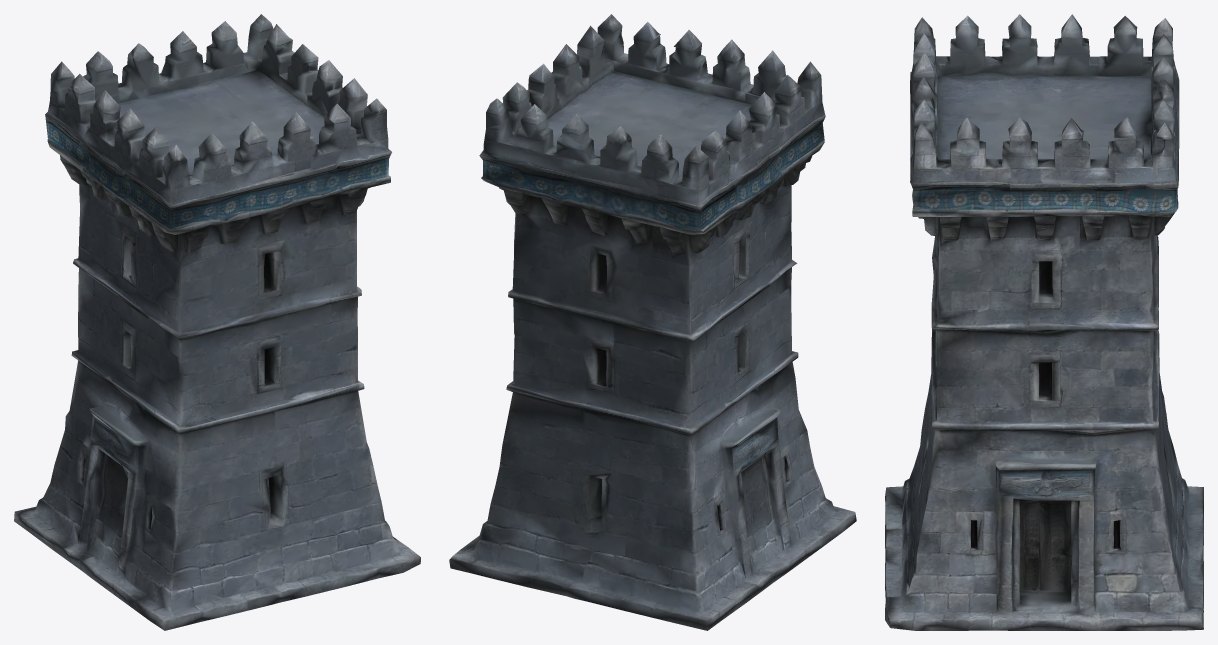
The model's file is castle_tower_medium_stone.glb.
3 renders of one model, left to right at view 1: azimuth 30°, elevation 25°; view 2: azimuth 150°, elevation 25°; view 3: azimuth 270°, elevation 25°, orthographic. The views are drawn at different scales.
Parts seen in each view (by area): view 1: tripo_node_2e26561f-4115-46ed-bfc1-a447273d9d5d; view 2: tripo_node_2e26561f-4115-46ed-bfc1-a447273d9d5d; view 3: tripo_node_2e26561f-4115-46ed-bfc1-a447273d9d5d.
Boxes of the visible parts, <box> form: tripo_node_2e26561f-4115-46ed-bfc1-a447273d9d5d: <box>14,14,420,630</box>; tripo_node_2e26561f-4115-46ed-bfc1-a447273d9d5d: <box>449,14,856,630</box>; tripo_node_2e26561f-4115-46ed-bfc1-a447273d9d5d: <box>885,14,1203,630</box>.
Size of the model in its own units: 0.5675 by 0.9807 by 0.568.
1 material, 1 textured.
